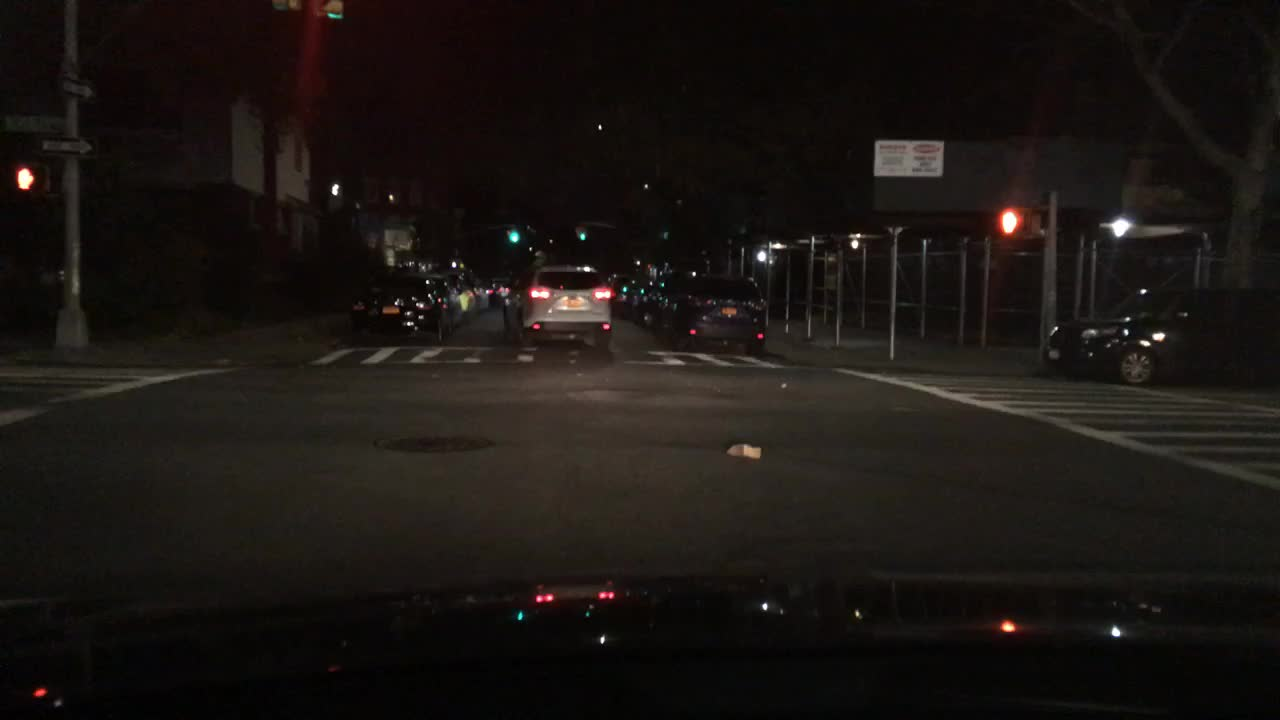car: (1036, 287, 1278, 390), (500, 262, 611, 343), (671, 272, 768, 352), (349, 276, 451, 347), (646, 276, 682, 332), (432, 274, 462, 325), (452, 272, 476, 320), (613, 276, 640, 314), (633, 278, 657, 320), (471, 271, 489, 308), (490, 277, 511, 304)
traffic light: (14, 163, 46, 192), (1001, 207, 1023, 236), (315, 1, 344, 18), (270, 0, 300, 11), (578, 223, 586, 239), (511, 226, 516, 241)
traffic sign: (41, 136, 93, 157), (63, 75, 93, 97)
